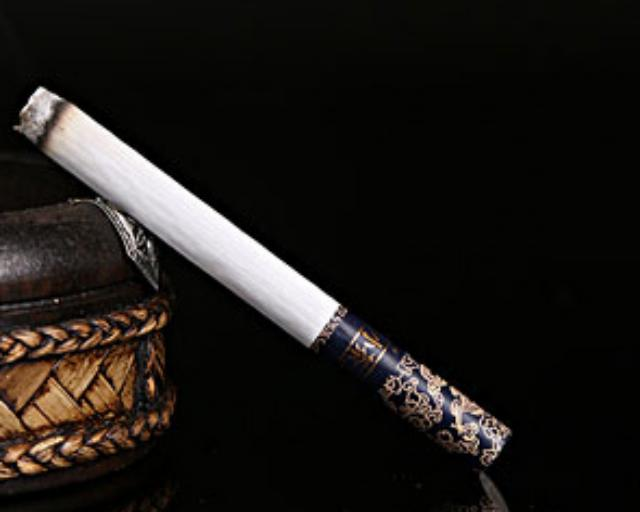Cigarette: (11, 80, 512, 468)
